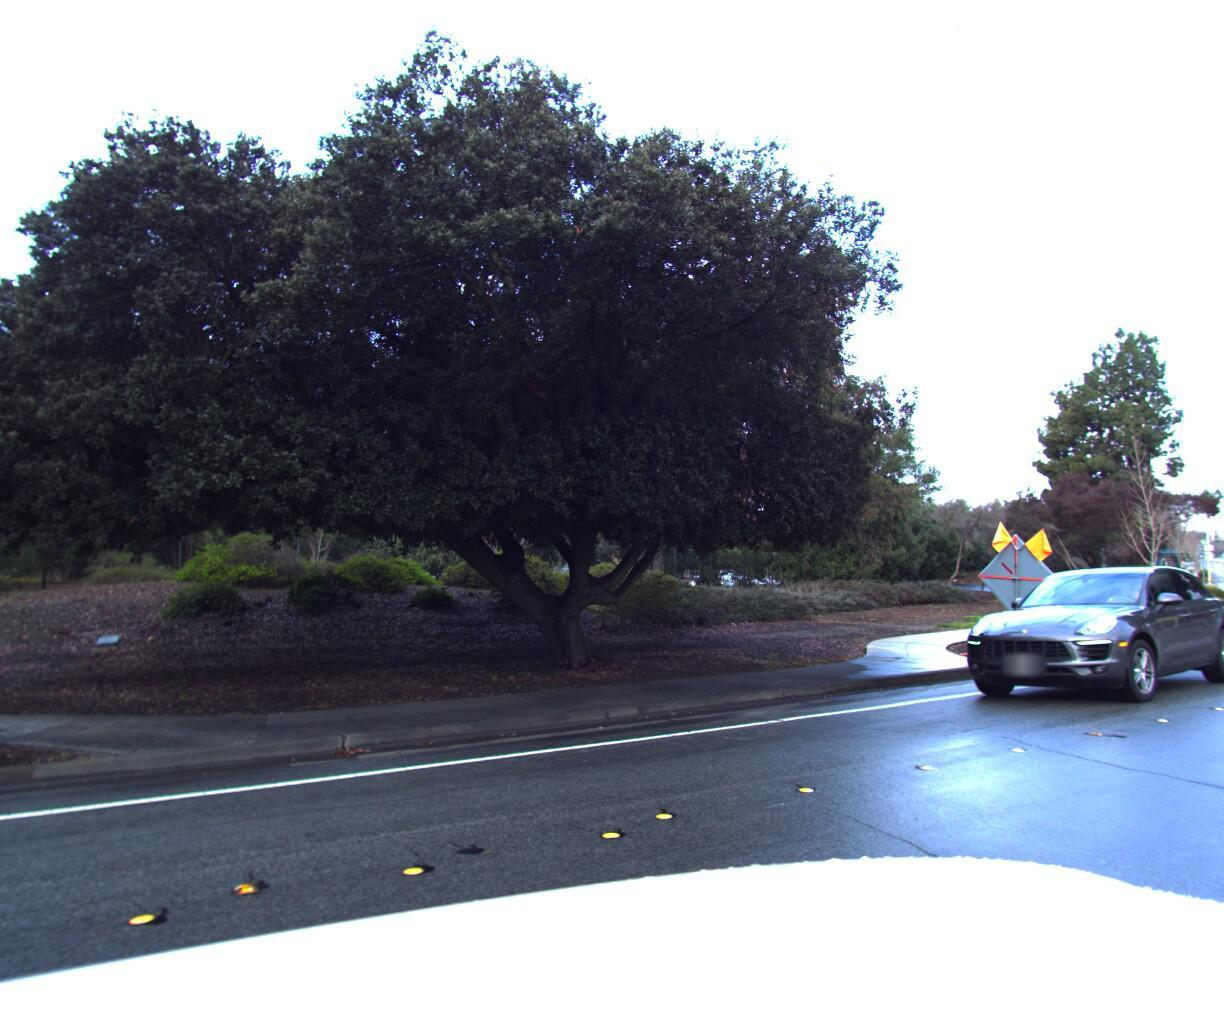car: (946, 561, 1224, 714)
